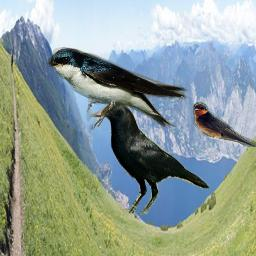Crow: (90, 102, 210, 215)
Swallow: (47, 47, 192, 133), (193, 102, 256, 147)
